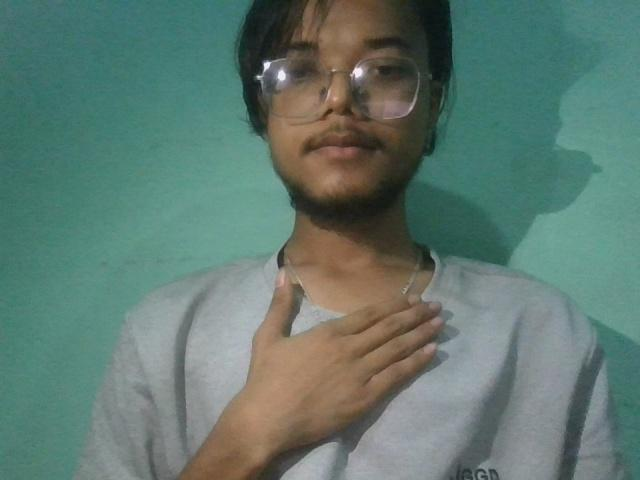Please: (171, 244, 489, 463)
